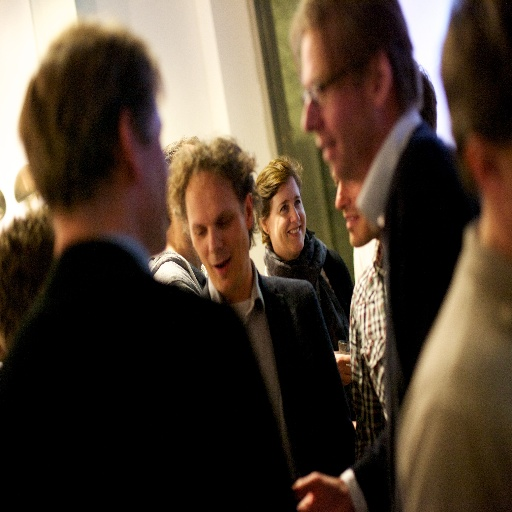hand: (276, 445, 367, 508), (334, 348, 350, 388)
